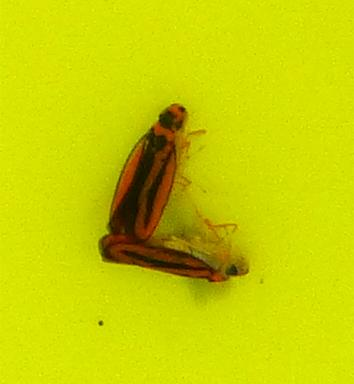Hemiptera: (106, 100, 190, 240), (100, 230, 254, 284)
